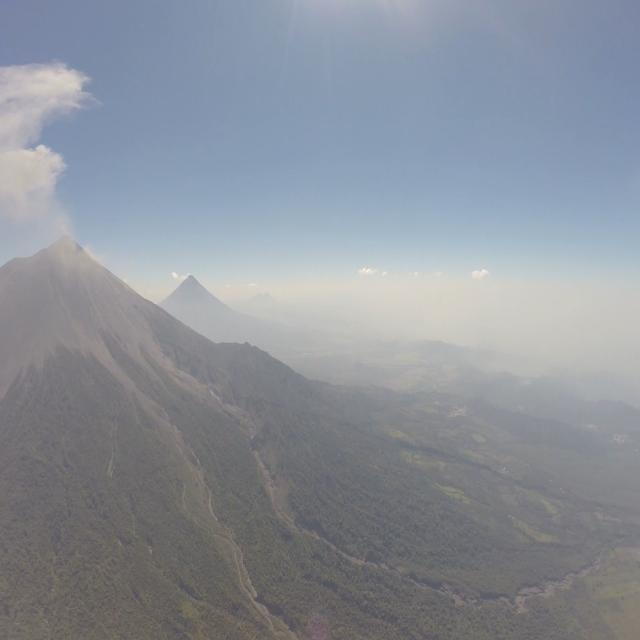Plume: (0, 58, 98, 146), (0, 138, 71, 222)
Summit: (45, 230, 82, 253)
